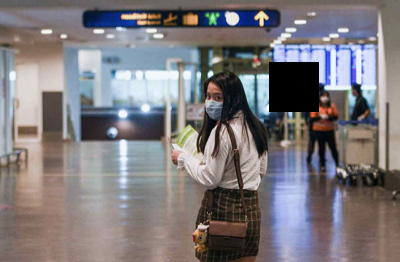with_mask: (204, 89, 225, 120), (319, 93, 330, 104)
